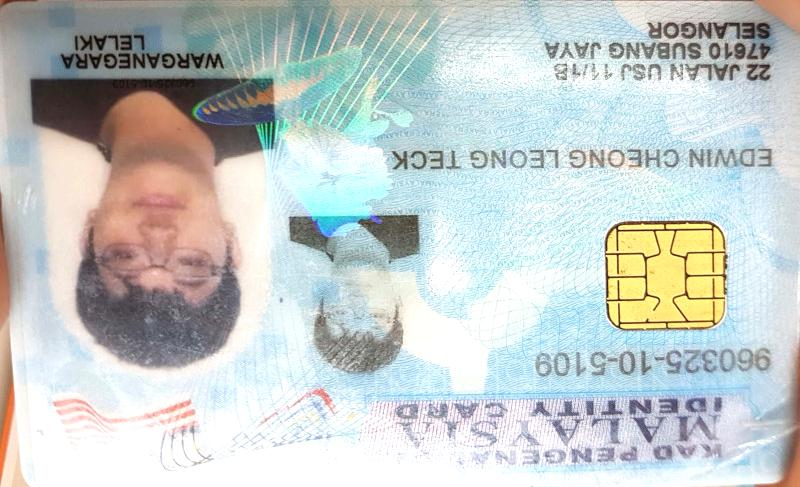hologramB: (273, 95, 392, 214)
